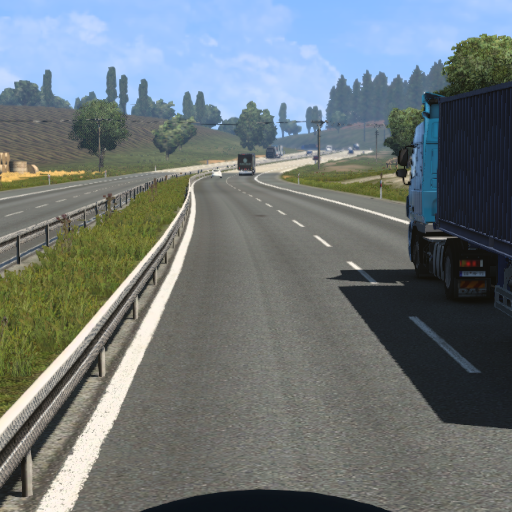markup: (403, 314, 487, 375), (343, 259, 384, 287), (309, 232, 338, 249), (289, 218, 309, 228), (273, 209, 290, 216)
markup_line: (23, 187, 197, 512)
